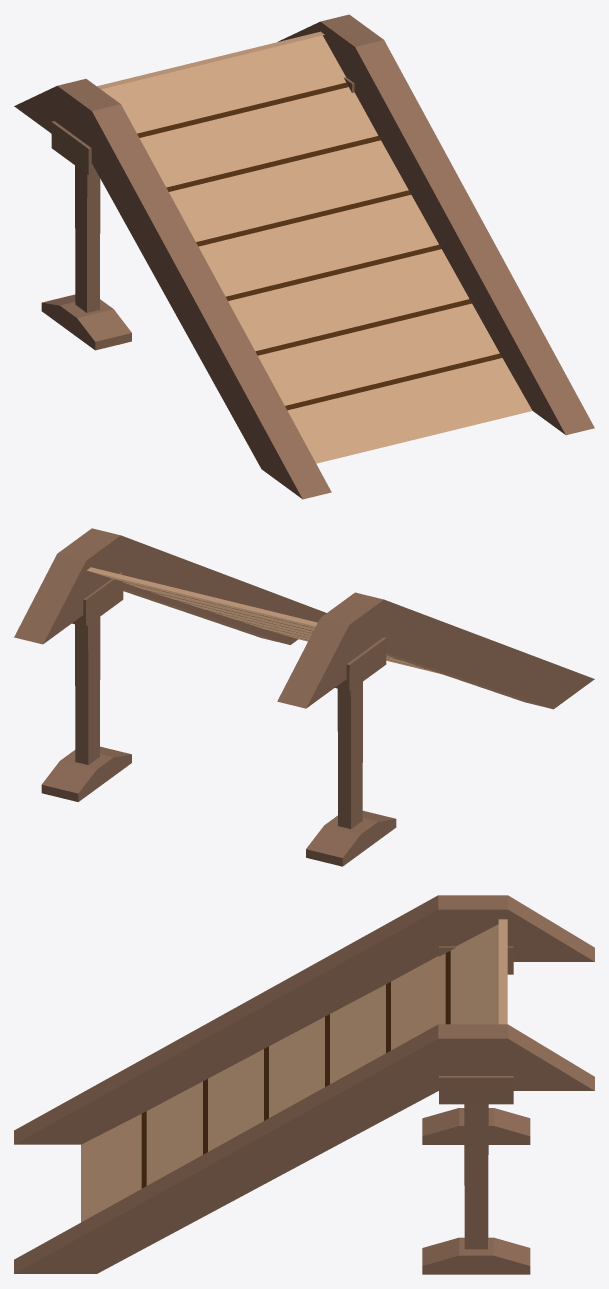
Rendered from quaternius-ultimate-space-pack-ramp-transformed.glb.
3 views of the same model, one above another, from view 1: azimuth 30°, elevation 25°; view 2: azimuth 150°, elevation 25°; view 3: azimuth 270°, elevation 25° (orthographic).
Parts seen in each view (by area): view 1: Ramp; view 2: Ramp; view 3: Ramp.
Boxes of the visible parts, <box> form: Ramp: <box>14,14,594,499</box>; Ramp: <box>14,528,594,866</box>; Ramp: <box>14,895,594,1274</box>.
Bounding box in the file's own units: 1.87 × 1.39 × 3.11.
Materials: 1 (1 with a texture image).
